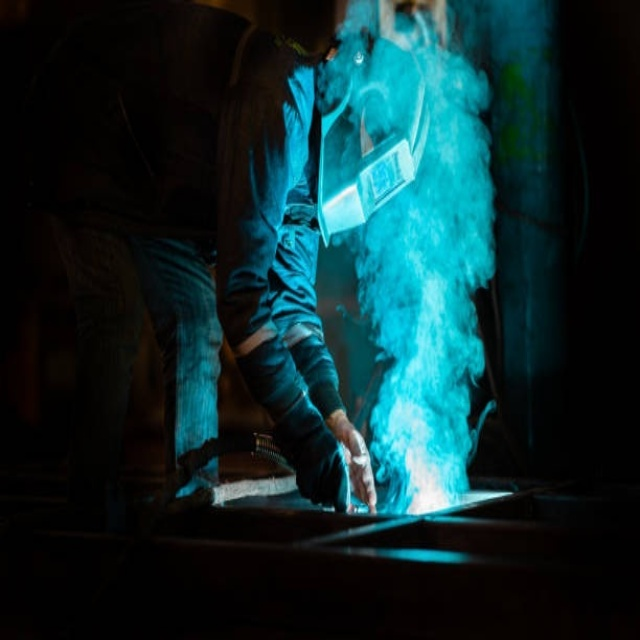Guantes: (234, 327, 352, 512)
